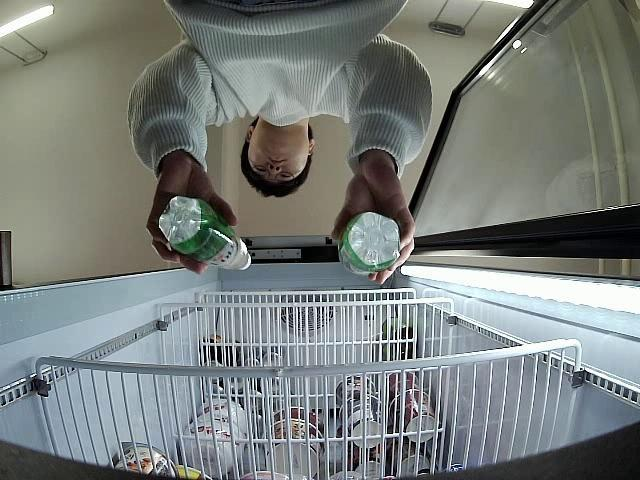18_trevi: (158, 194, 252, 272), (339, 210, 401, 275)
